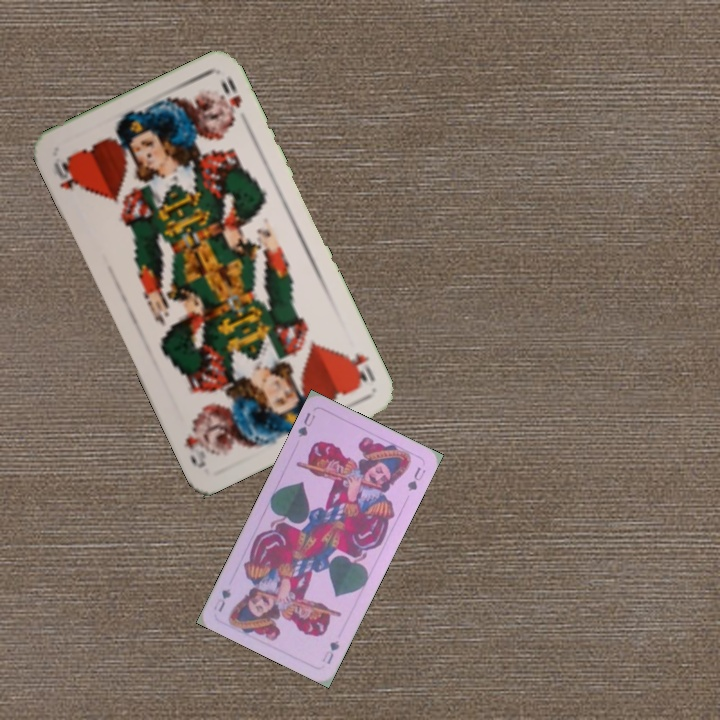GU: (293, 408, 318, 440), (318, 636, 342, 667)
HO: (339, 347, 378, 390), (49, 153, 85, 193)
